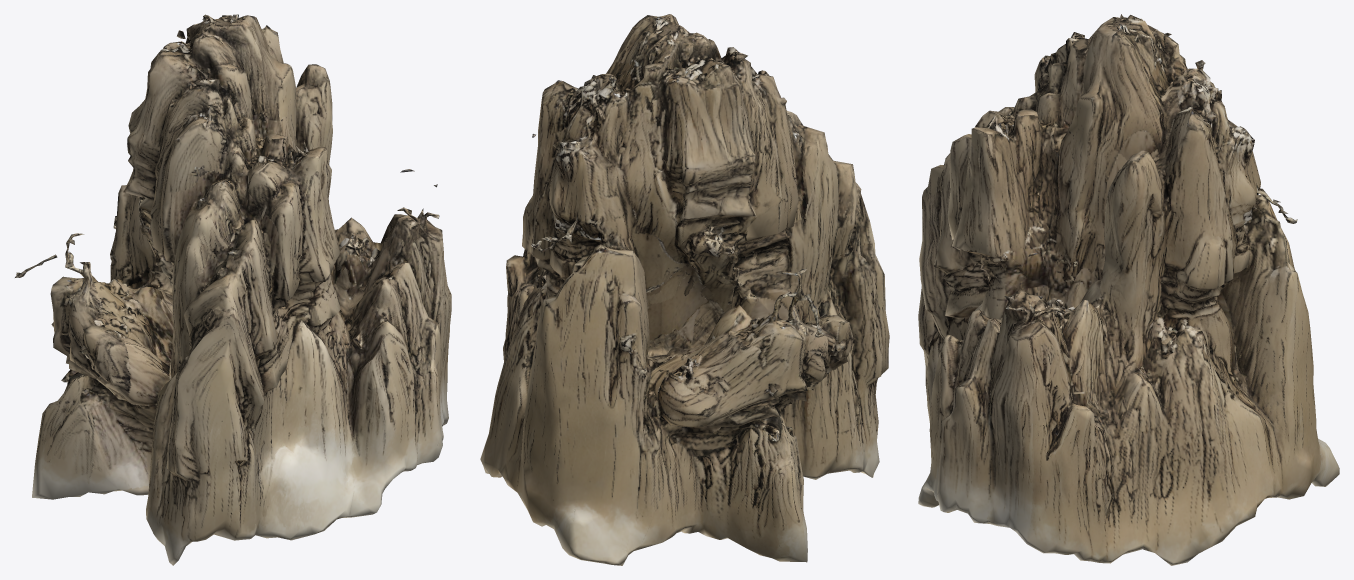
File: ScrollPeak.fbx
The picture shows the model from 3 angles, left to right: view 1: azimuth 30°, elevation 25°; view 2: azimuth 150°, elevation 25°; view 3: azimuth 270°, elevation 25°; orthographic projection. The views are drawn at different scales.
Visible parts, largest first — view 1: ScrollPeak; view 2: ScrollPeak; view 3: ScrollPeak.
Part boxes in pixels (bbox=[...]): ScrollPeak: bbox=[15, 14, 451, 565]; ScrollPeak: bbox=[480, 14, 889, 565]; ScrollPeak: bbox=[918, 14, 1339, 565].
Bounding box in the file's own units: 81.25 × 100 × 78.29.
1 material, 1 textured.
